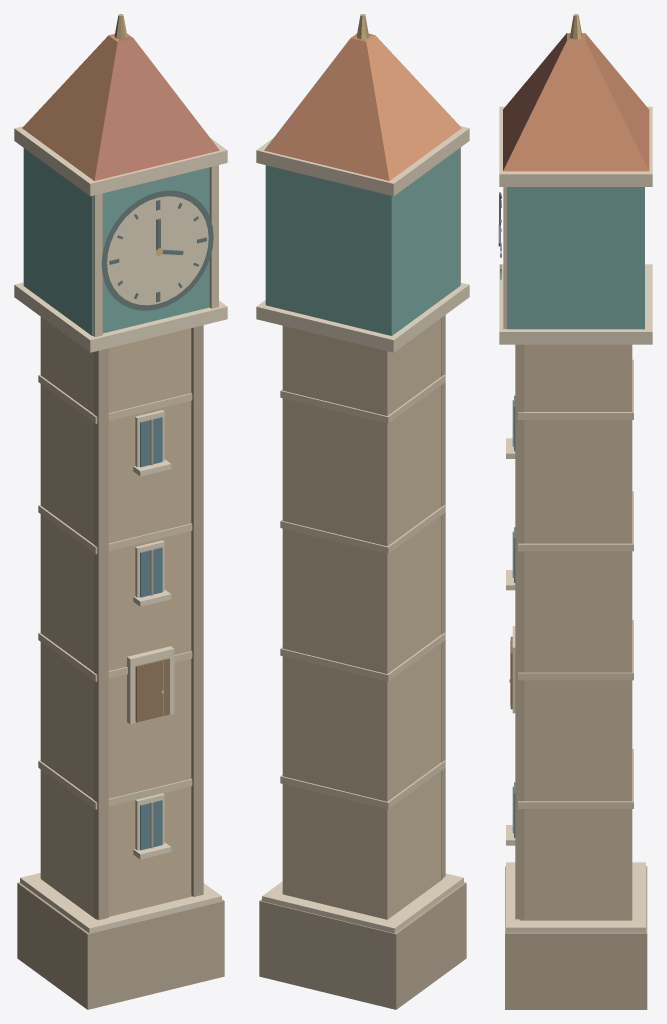
Rendered from GoalClockTower.glb.
The picture shows the model from 3 angles, left to right: view 1: azimuth 30°, elevation 25°; view 2: azimuth 150°, elevation 25°; view 3: azimuth 270°, elevation 25°; orthographic projection.
Parts seen in each view (by area): view 1: GoalClockTower; view 2: GoalClockTower; view 3: GoalClockTower.
Boxes of the visible parts, left/top/right/bottom form: GoalClockTower: left=14, top=14, right=227, bottom=1009; GoalClockTower: left=256, top=14, right=469, bottom=1009; GoalClockTower: left=498, top=14, right=652, bottom=1009.
Size of the model in its own units: 5.52 by 36.55 by 5.32.
